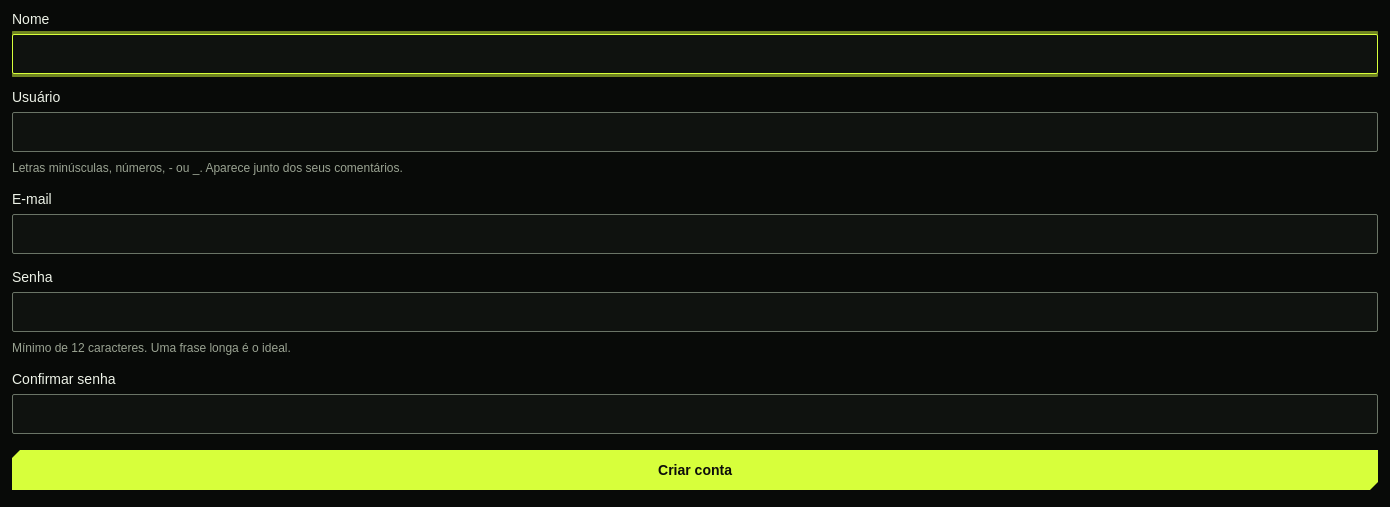
Test: <SignupForm /> (conta de leitor) › envia sem o campo de mensagem e mostra o sucesso com o botão Entrar
Expected: the field labelled "escrever" is not shown
Type "Léo" into the field labelled "Nome" at coordinates (695, 54), box [12,34,1378,74]
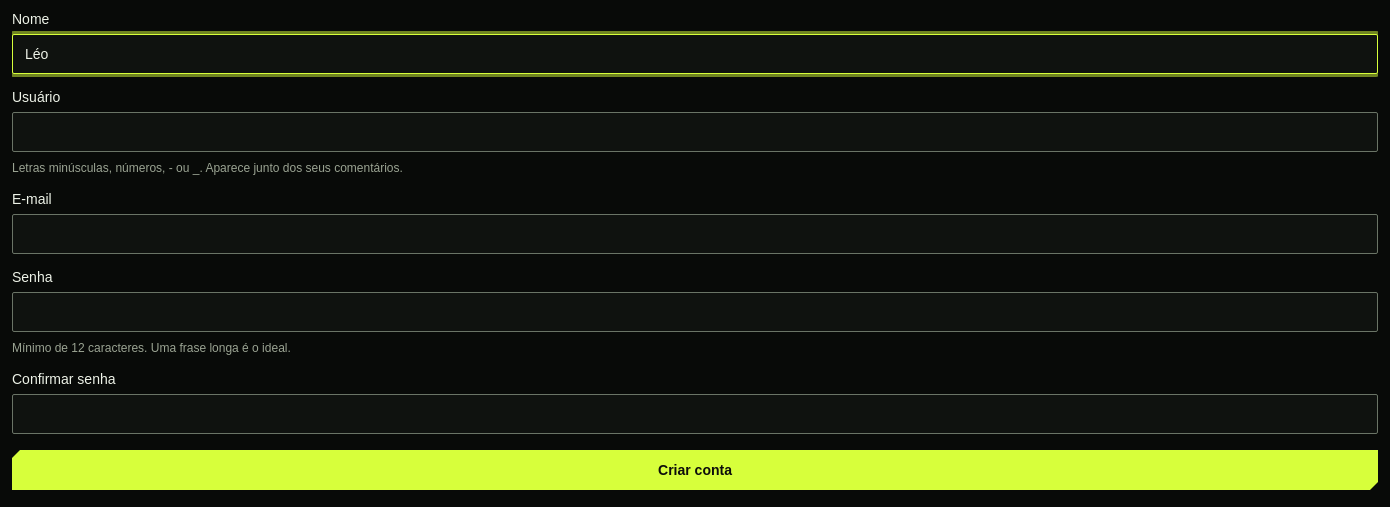
Type "leo" into the field labelled "Usuário" at coordinates (695, 132), box [12,112,1378,152]
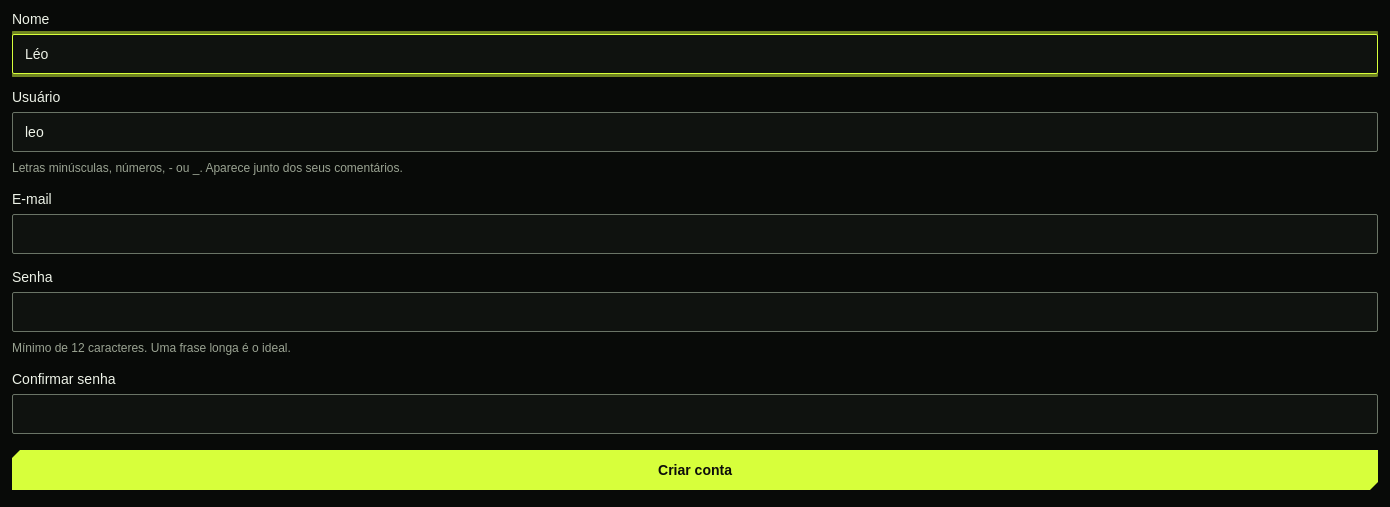
Type "leo@x.com" into the field labelled "E-mail" at coordinates (695, 234), box [12,214,1378,254]
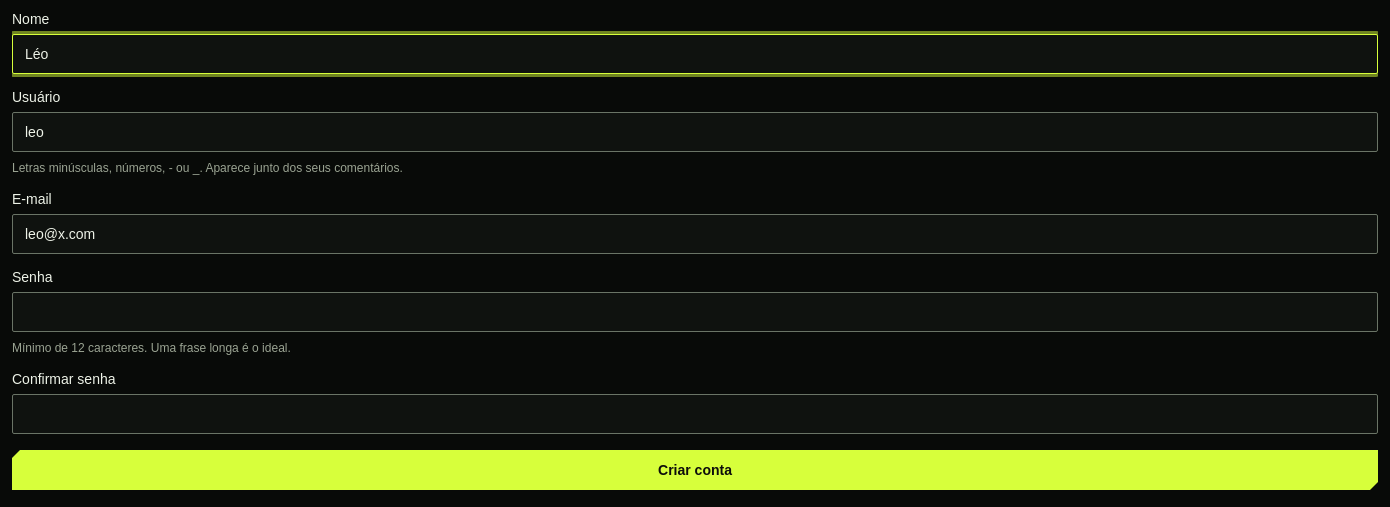
Type "frase-senha-longa" into the password field labelled "Senha" at coordinates (695, 312), box [12,292,1378,332]
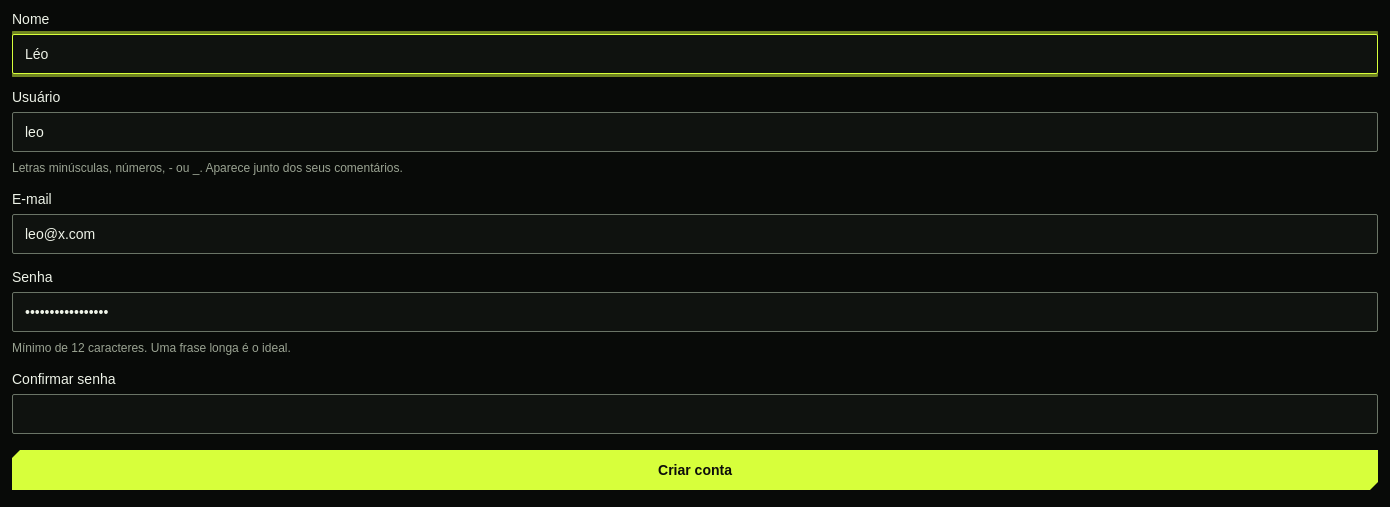
Type "frase-senha-longa" into the password field labelled "Confirmar senha" at coordinates (695, 414), box [12,394,1378,434]
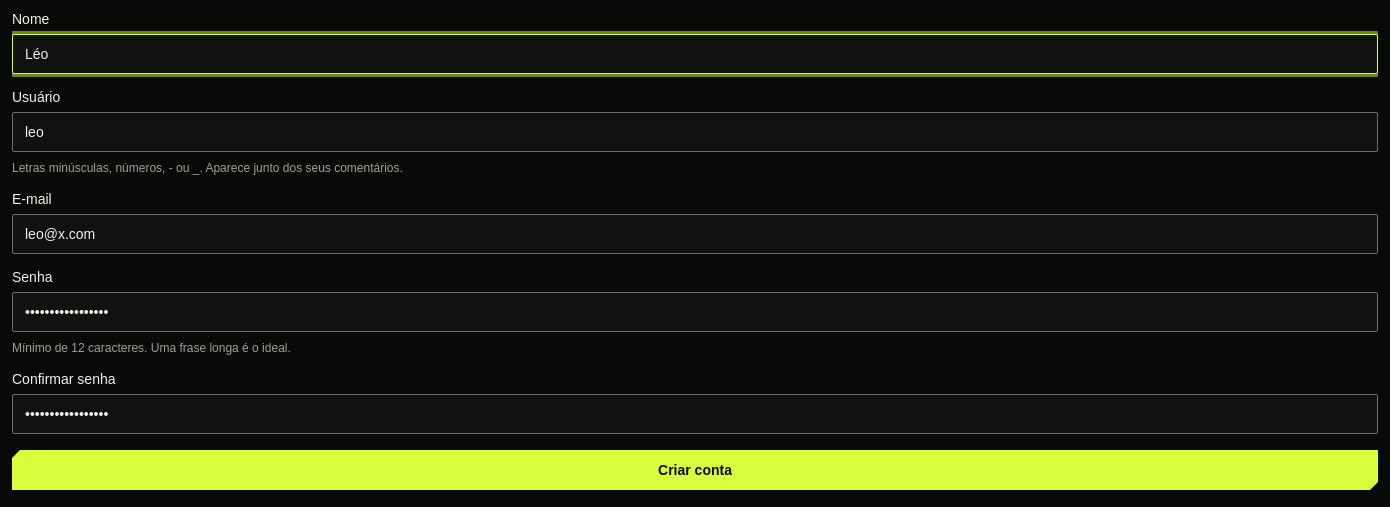
Click the button "Criar conta" at coordinates (695, 470), box [12,450,1378,490]
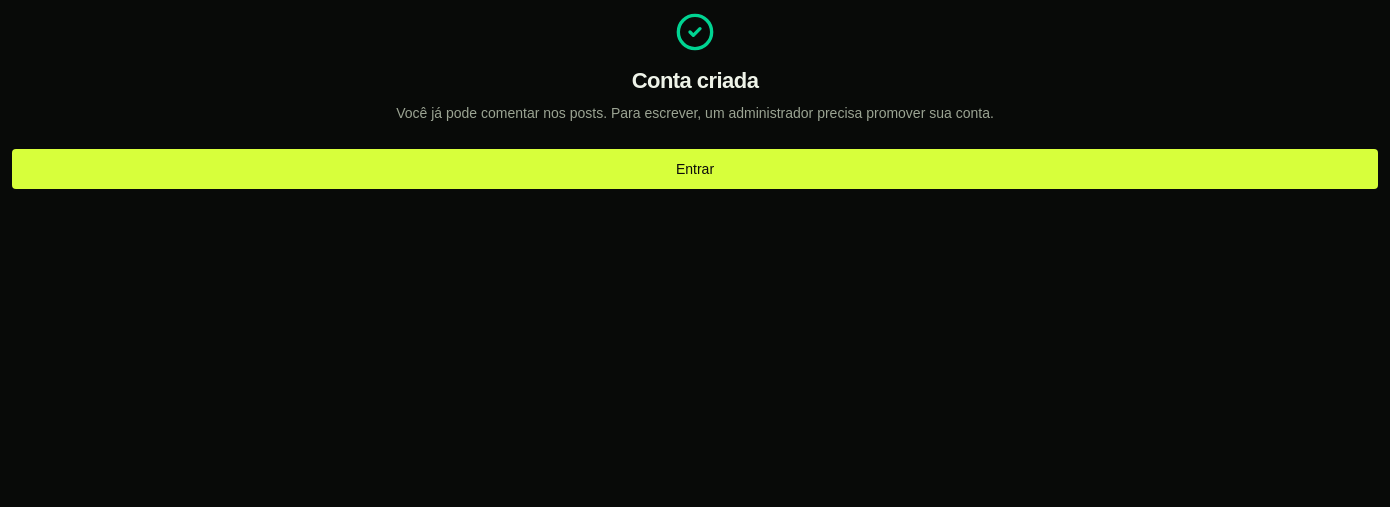
Result: the heading "Conta criada" is shown at [632,68,758,93]
